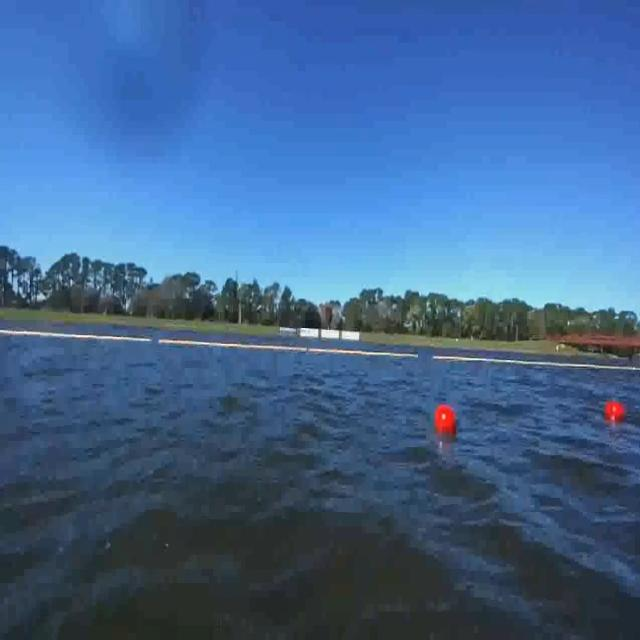red-buoy: (434, 405, 456, 435), (606, 403, 628, 423)
